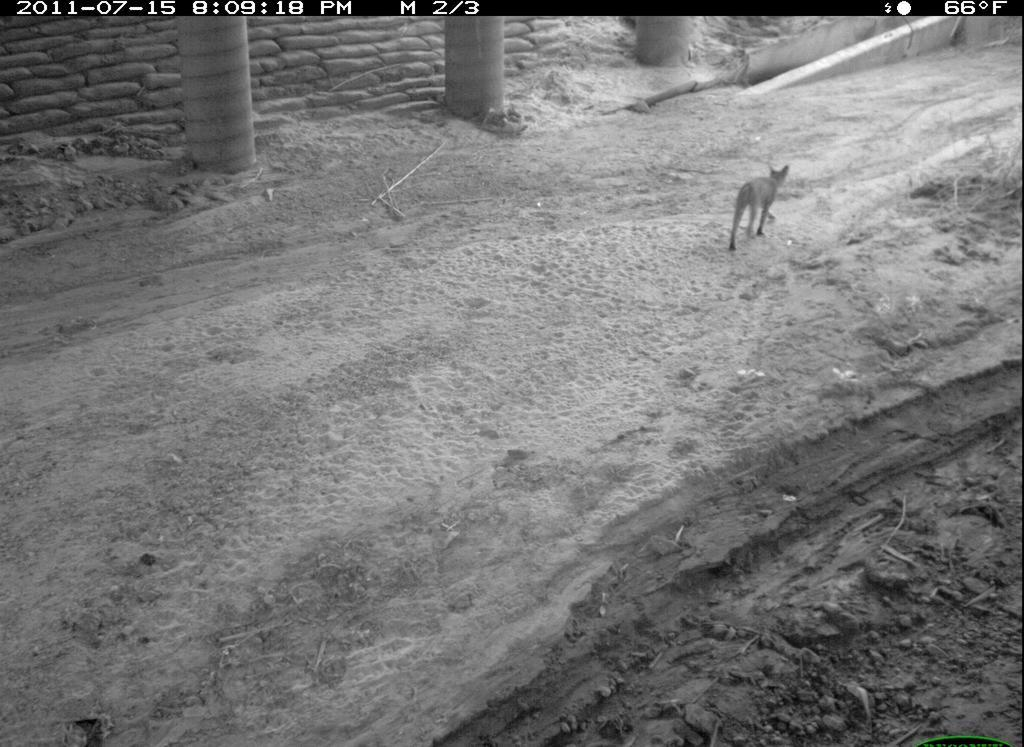bobcat: (720, 155, 802, 260)
